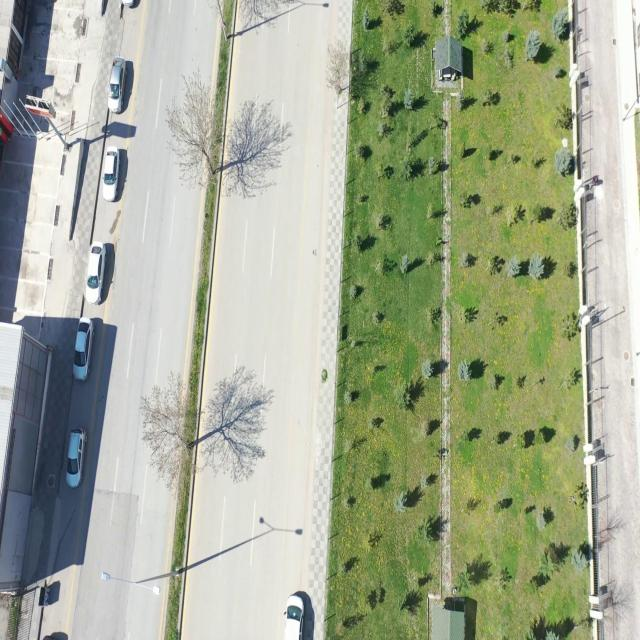p3rson: (590, 176, 598, 189), (120, 1, 124, 20)
